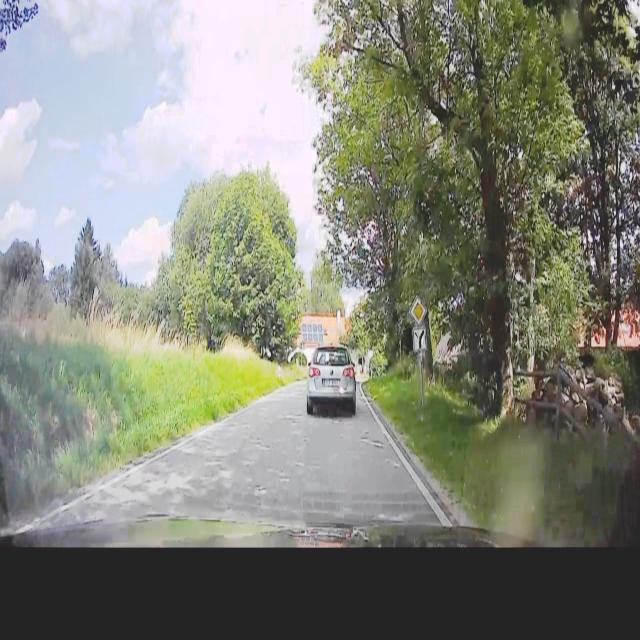Priority road: (406, 293, 429, 326)
